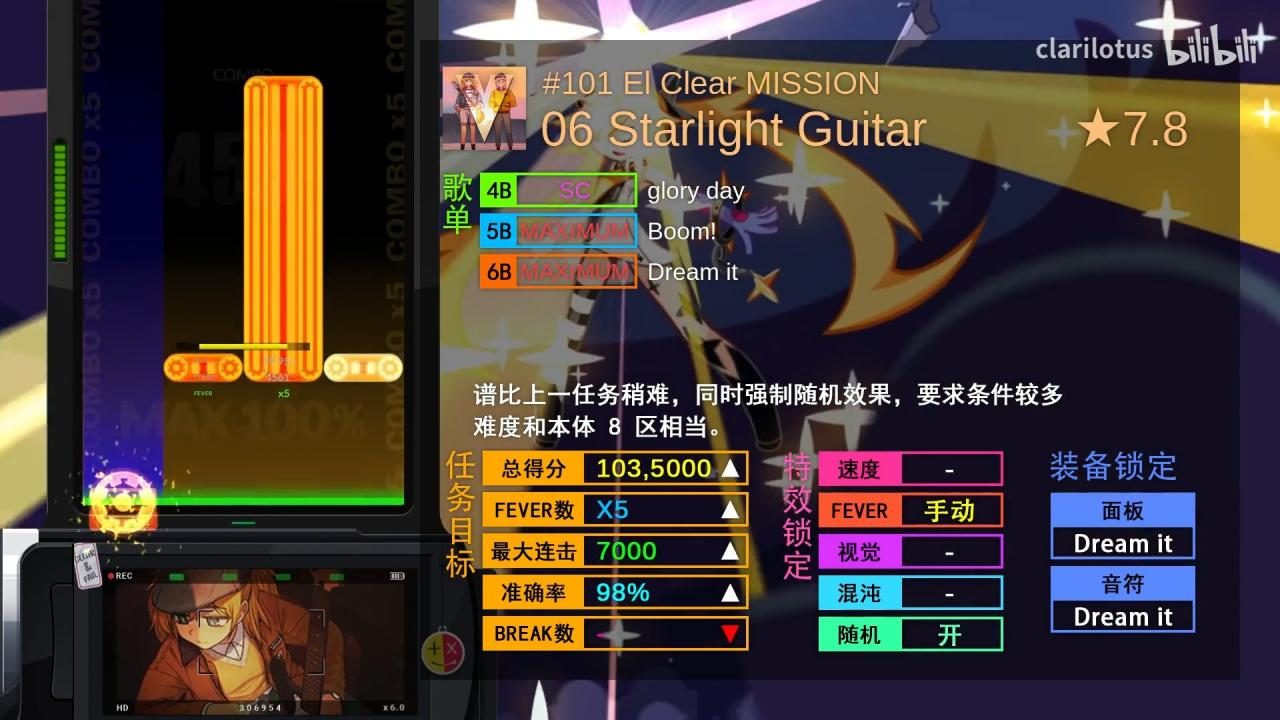hold-end: (243, 76, 323, 101)
hold-start: (244, 357, 323, 383)
note: (164, 353, 243, 384), (324, 353, 404, 383)
